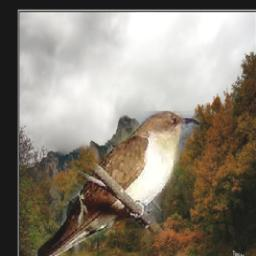Cuckoo: (28, 112, 200, 256)
